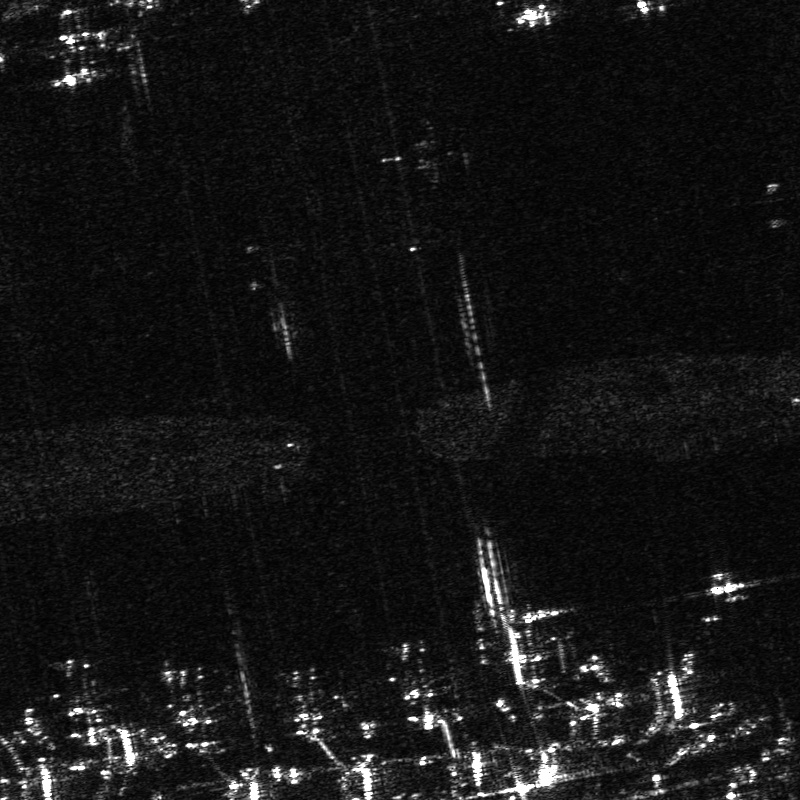A220: (42, 658, 128, 740), (268, 661, 349, 738), (378, 636, 449, 709), (155, 665, 224, 737)
